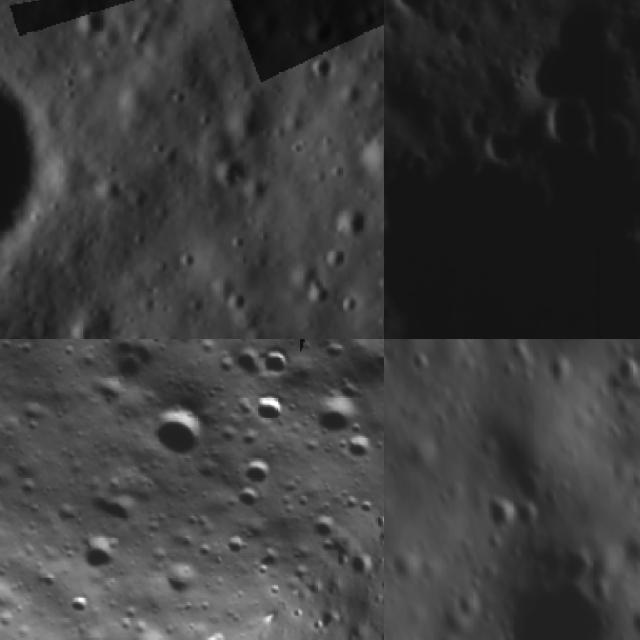crater: (384, 155, 640, 339), (0, 34, 114, 325), (502, 548, 633, 640), (138, 388, 222, 472), (304, 379, 372, 448), (53, 0, 125, 65), (533, 82, 593, 156), (80, 473, 146, 539), (469, 117, 535, 177), (69, 522, 131, 584), (96, 339, 168, 390), (152, 547, 211, 606), (340, 107, 384, 184), (222, 340, 272, 389), (234, 448, 283, 497), (246, 386, 294, 434), (501, 456, 549, 504), (256, 340, 304, 387), (206, 147, 250, 190), (301, 502, 344, 545), (341, 430, 381, 470), (481, 491, 518, 534), (384, 0, 459, 20), (454, 587, 492, 626), (119, 616, 180, 640), (386, 548, 426, 584), (232, 478, 268, 515), (250, 541, 286, 577), (510, 503, 544, 537), (612, 351, 640, 386), (0, 402, 12, 456), (626, 603, 640, 639)
